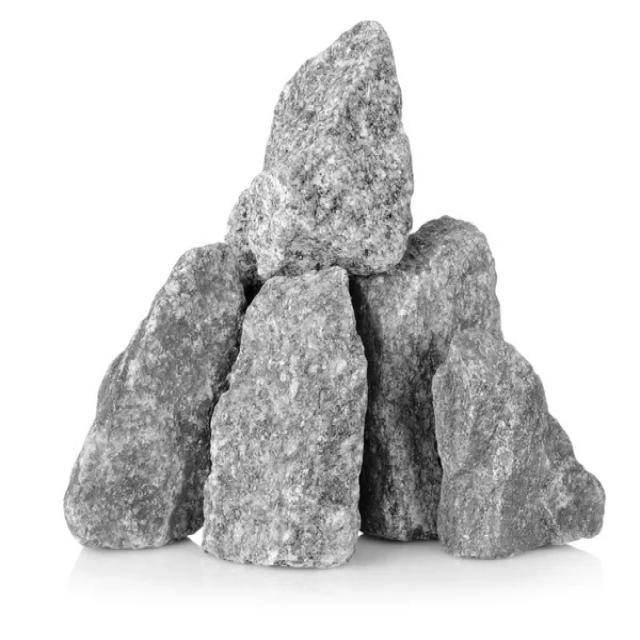Stone: (64, 244, 245, 549), (351, 216, 503, 542), (204, 268, 368, 570), (248, 22, 413, 280), (433, 330, 604, 559)
